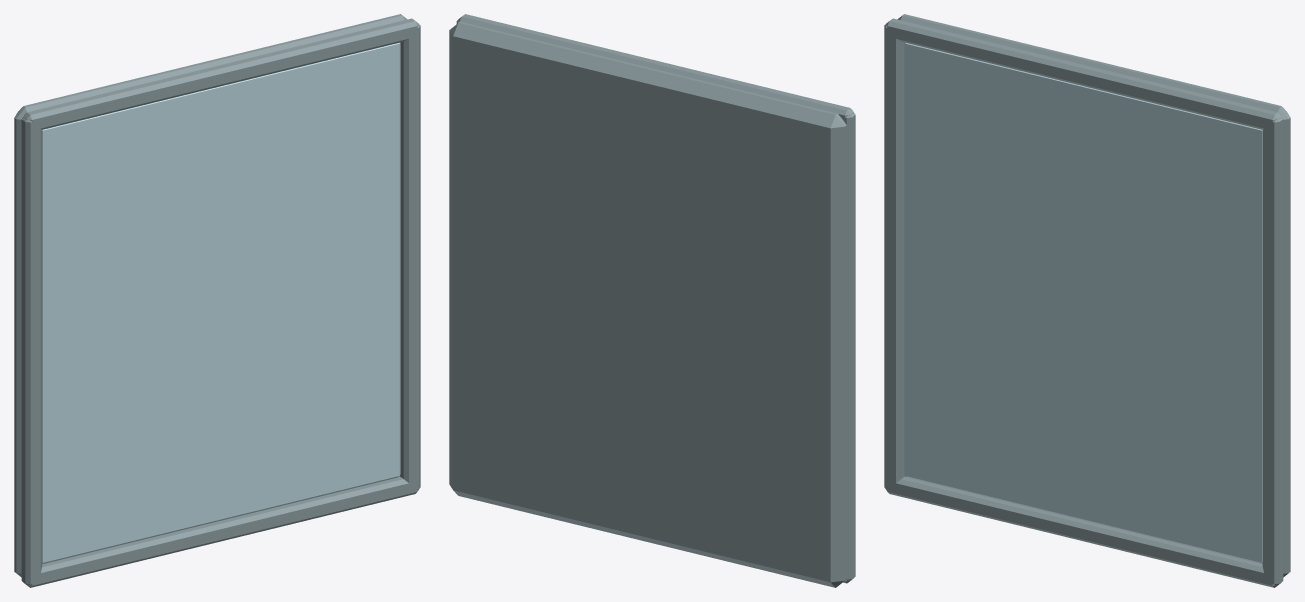
File: Facilities-SinkMirror.fbx
3 views of the same model, side by side, from view 1: azimuth 30°, elevation 25°; view 2: azimuth 150°, elevation 25°; view 3: azimuth 330°, elevation 25° (orthographic).
Parts seen in each view (by area): view 1: Mirror Glass, Vertical Frame, Vertical Frame.001, Horizontal Frame.001, Horizontal Frame, Backing; view 2: Backing, Vertical Frame, Horizontal Frame.001; view 3: Mirror Glass, Vertical Frame.001, Vertical Frame, Horizontal Frame.001, Horizontal Frame, Backing.
Part boxes in pixels (x1=…): Mirror Glass: x1=42, y1=42, x2=400, y2=564; Vertical Frame: x1=21, y1=117, x2=42, y2=585; Vertical Frame.001: x1=400, y1=24, x2=420, y2=491; Horizontal Frame.001: x1=23, y1=18, x2=418, y2=130; Horizontal Frame: x1=23, y1=476, x2=418, y2=587; Backing: x1=14, y1=14, x2=407, y2=577; Backing: x1=449, y1=21, x2=846, y2=587; Vertical Frame: x1=841, y1=113, x2=855, y2=580; Horizontal Frame.001: x1=458, y1=14, x2=853, y2=121; Mirror Glass: x1=904, y1=42, x2=1262, y2=564; Vertical Frame.001: x1=1262, y1=117, x2=1283, y2=585; Vertical Frame: x1=884, y1=24, x2=904, y2=490; Horizontal Frame.001: x1=886, y1=18, x2=1281, y2=130; Horizontal Frame: x1=886, y1=476, x2=1281, y2=587; Backing: x1=897, y1=14, x2=1290, y2=577.
Bounding box in the file's own units: 0.7 × 0.8 × 0.0555.
